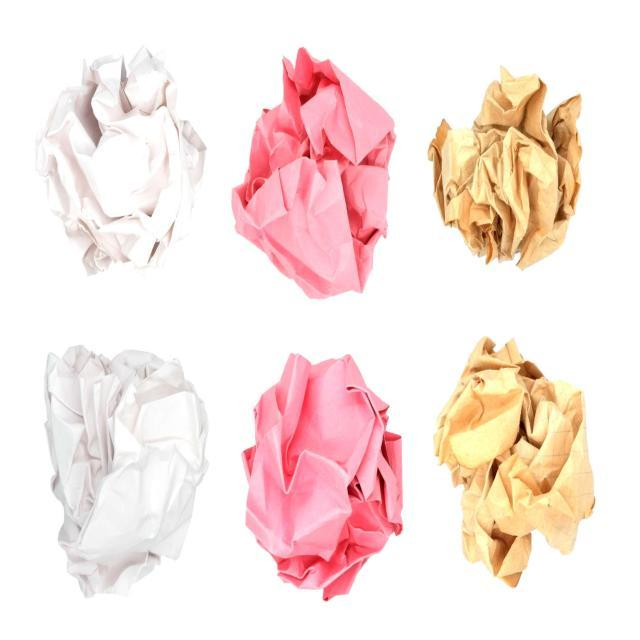Paper: (32, 34, 208, 278), (230, 47, 396, 305), (432, 335, 598, 591), (45, 343, 208, 600), (242, 353, 406, 603), (427, 64, 584, 273)
